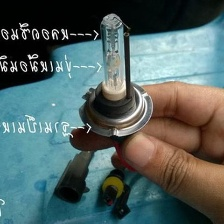light_bulb: (74, 9, 155, 145)
